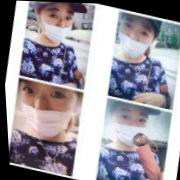OK: (107, 100, 152, 150)
WRONG: (10, 70, 79, 143), (114, 11, 159, 62), (36, 2, 78, 46)
